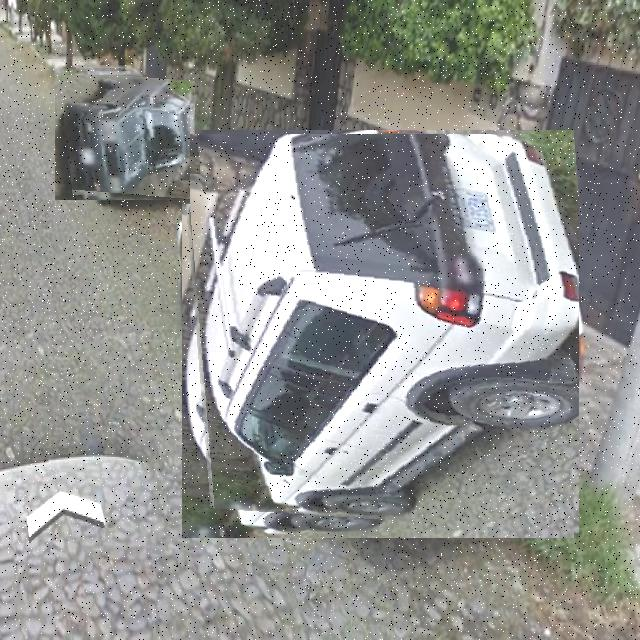car: (179, 135, 580, 536), (61, 76, 191, 206)
